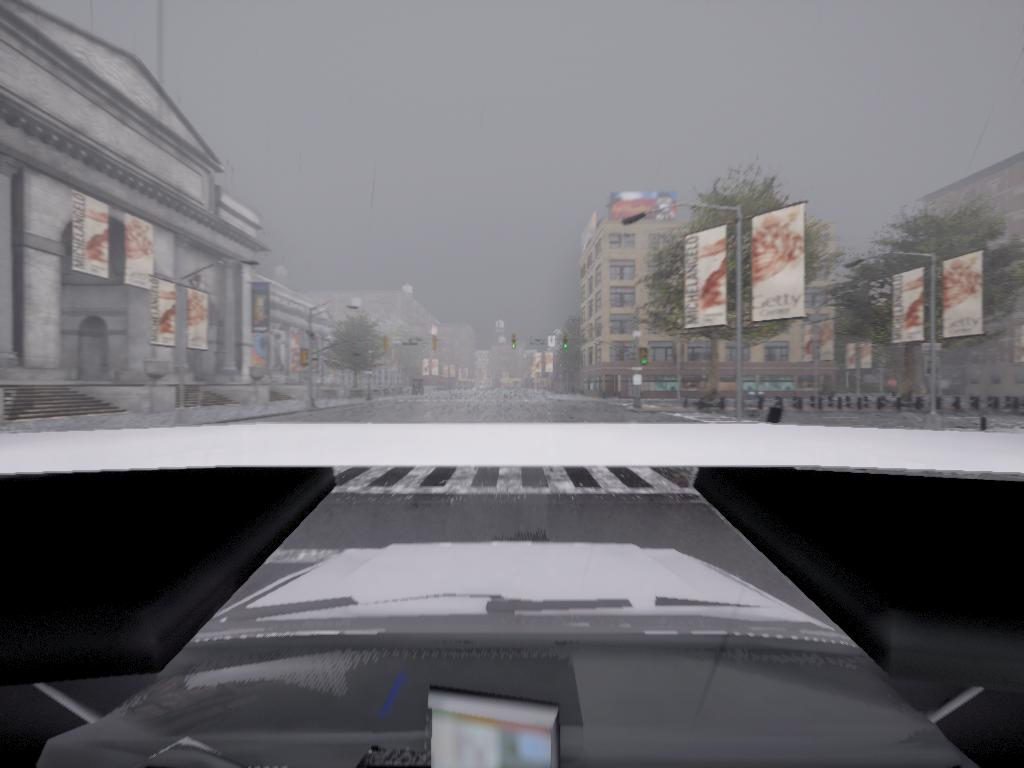traffic_light: (641, 348, 649, 367), (383, 337, 390, 354), (302, 350, 309, 367), (512, 336, 518, 350), (434, 338, 439, 353), (563, 337, 568, 351)
